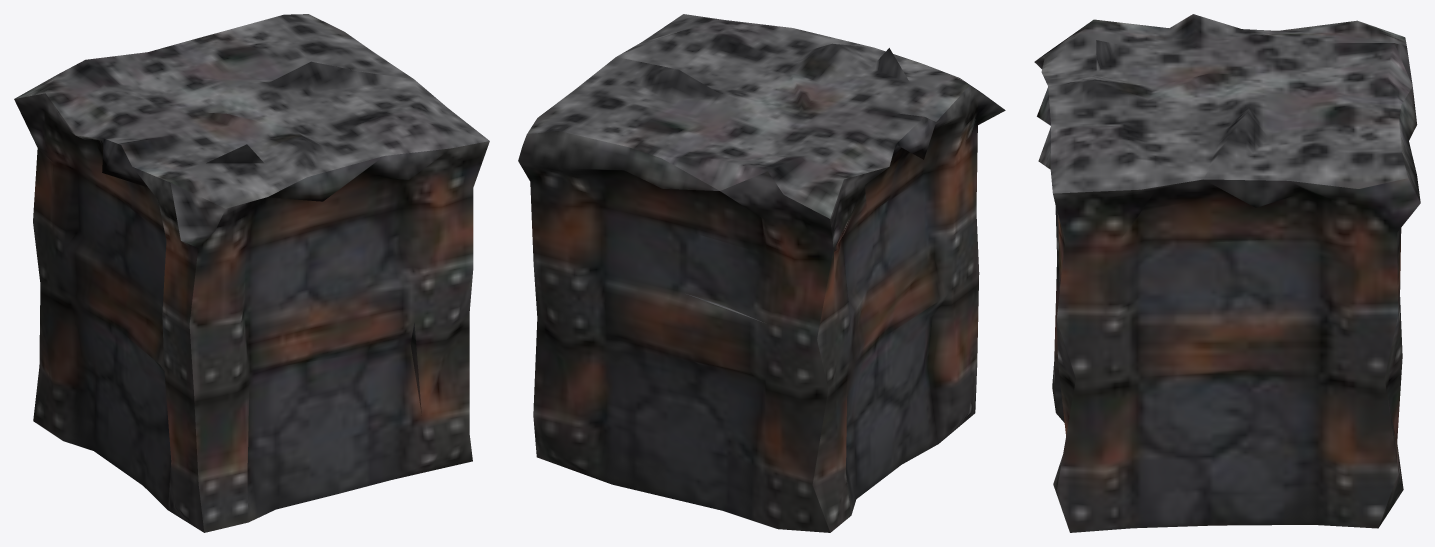
Rendered from b_braises_mur_3.glb.
3 views of the same model, side by side, from view 1: azimuth 30°, elevation 25°; view 2: azimuth 150°, elevation 25°; view 3: azimuth 270°, elevation 25° (orthographic). The views are drawn at different scales.
Parts seen in each view (by area): view 1: geometry_0; view 2: geometry_0; view 3: geometry_0.
Part boxes in pixels (<box>): geometry_0: <box>14,14,489,532</box>; geometry_0: <box>518,14,1005,532</box>; geometry_0: <box>1034,14,1420,532</box>.
Size of the model in its own units: 1 by 1.1 by 1.
Materials: 1 (1 with a texture image).
